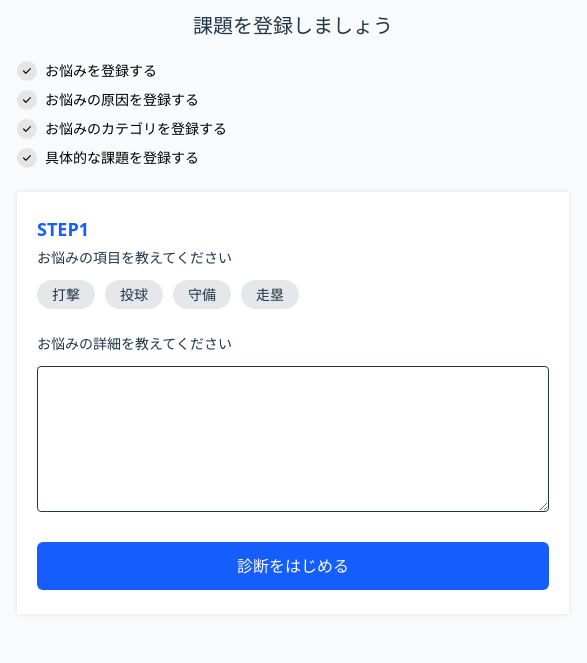
Test: STEP画面1のテスト › STEP画面4のテスト › STEP4でカテゴリのみ登録した場合、「入力テキストがありません」と表示される
This screenshot has width=587, height=663.
Step 1. Click the radio button with class "step1Radio" → (66, 294), box [37,280,95,309]
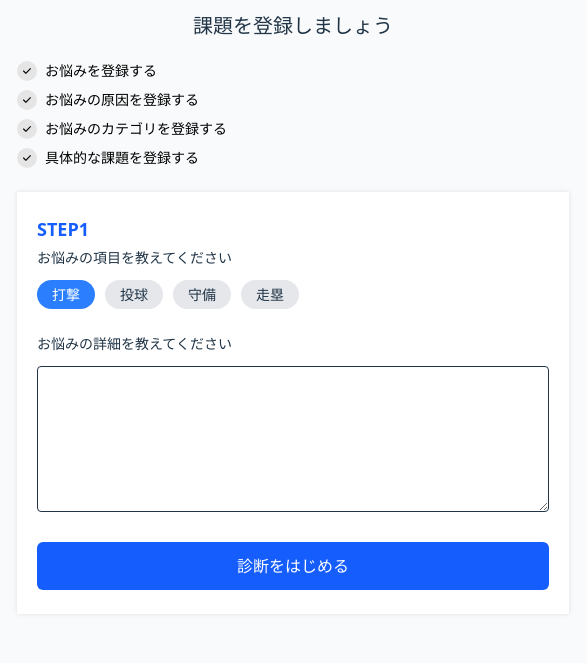
Step 2. Type "テストテキスト" into the text box with class "step1Form" → (293, 439), box [37,366,549,512]
Step 3. Click the button "診断をはじめる" → (293, 566), box [37,542,549,590]
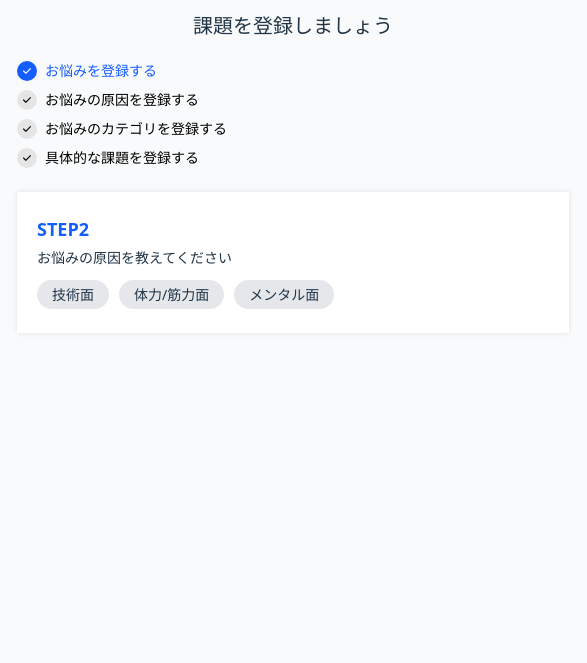
Step 4. Click the radio button with class "step2Radio" → (73, 294), box [37,280,109,309]
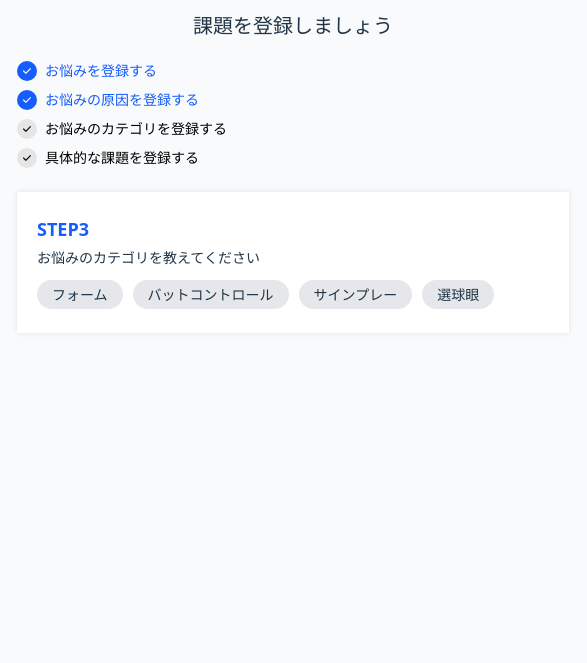
Step 5. Click the radio button with class "step3Radio" → (80, 294), box [37,280,123,309]
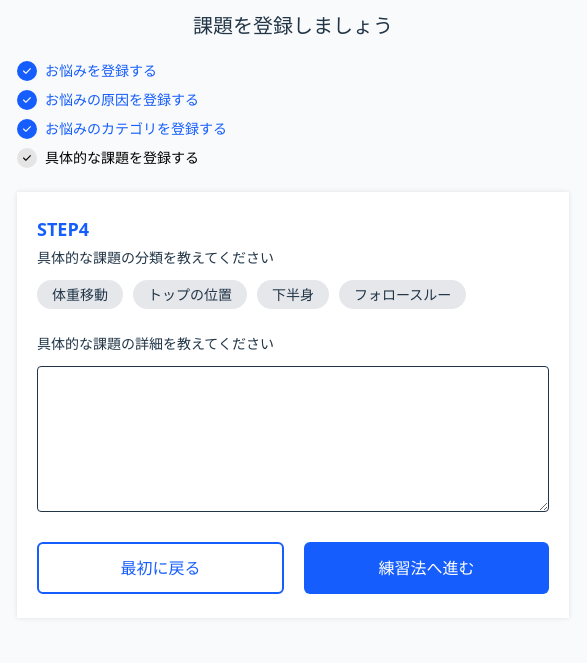
Step 6. Click the radio button with class "step4Radio" → (80, 294), box [37,280,123,309]
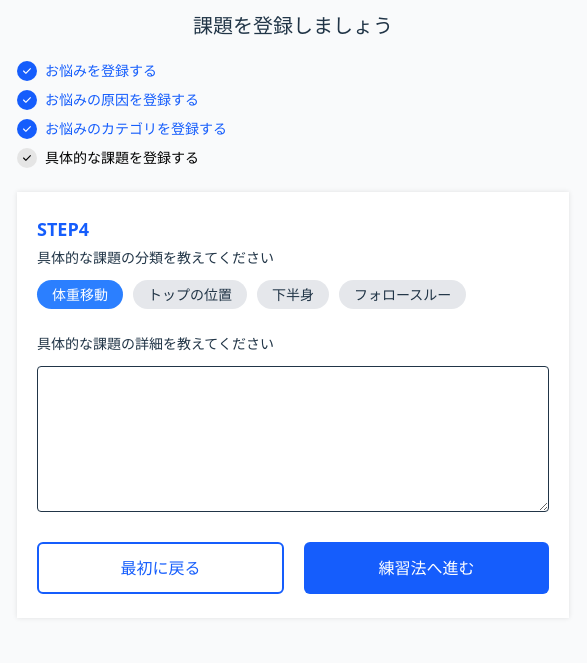
Step 7. Click the button "練習法へ進む" → (426, 568), box [304,542,549,594]
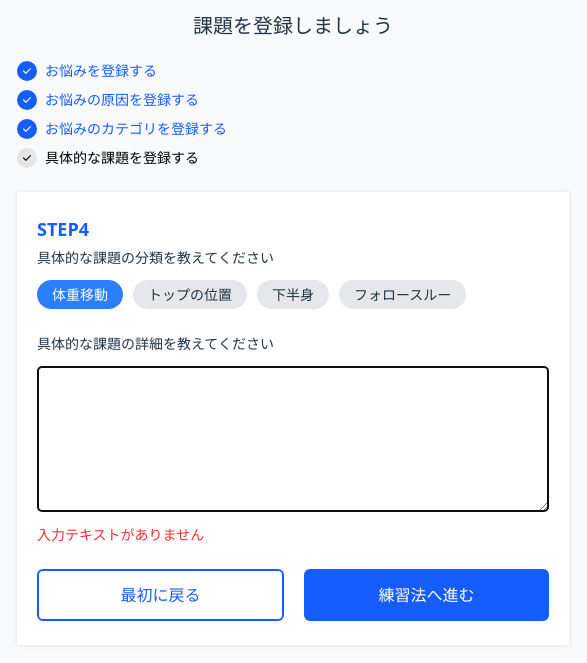
Check: the text "入力テキストがありません" is shown, box [37,525,204,544]
